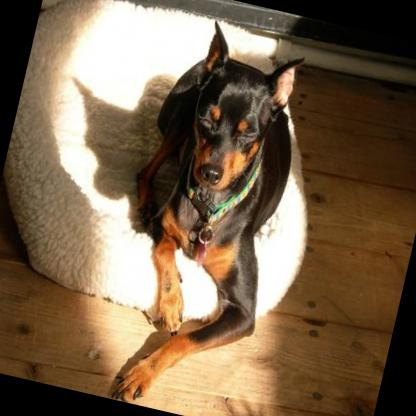miniature_pinscher: (85, 6, 322, 416)
